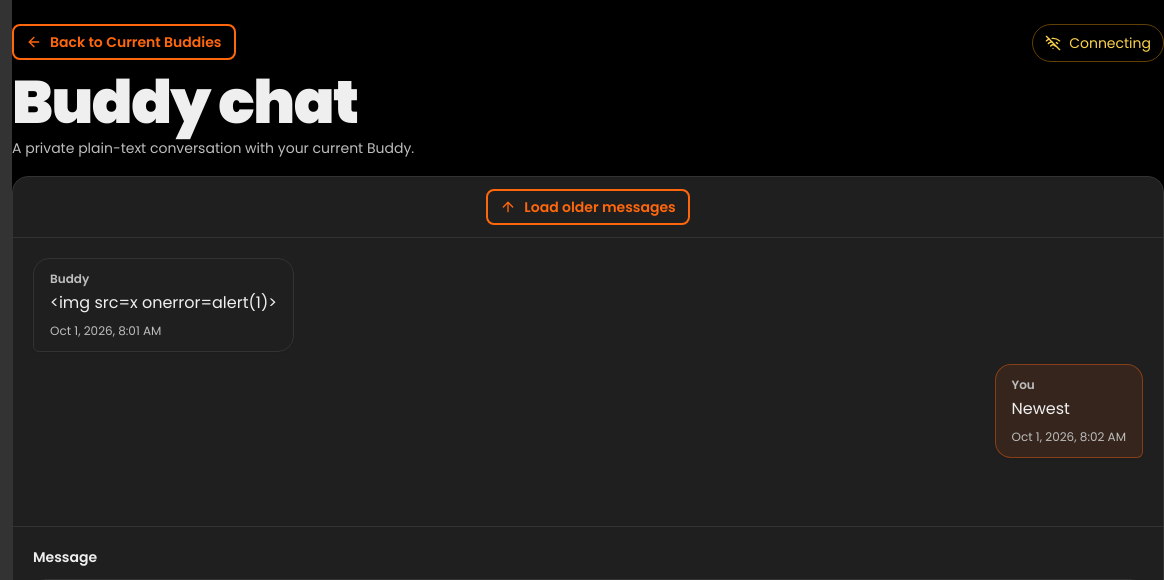
Test: CHAT-004 accessible conversation UI › renders chronological bounded history, safely prepends older messages and acknowledges the latest incoming boundary
Expected: the heading "Buddy chat" is shown, [12,72,414,132]
Expected: the text "<img src=x onerror=alert(1)>" is shown, [50,291,277,315]
Click the button "Load older messages": (588, 207) [486,189,690,225]
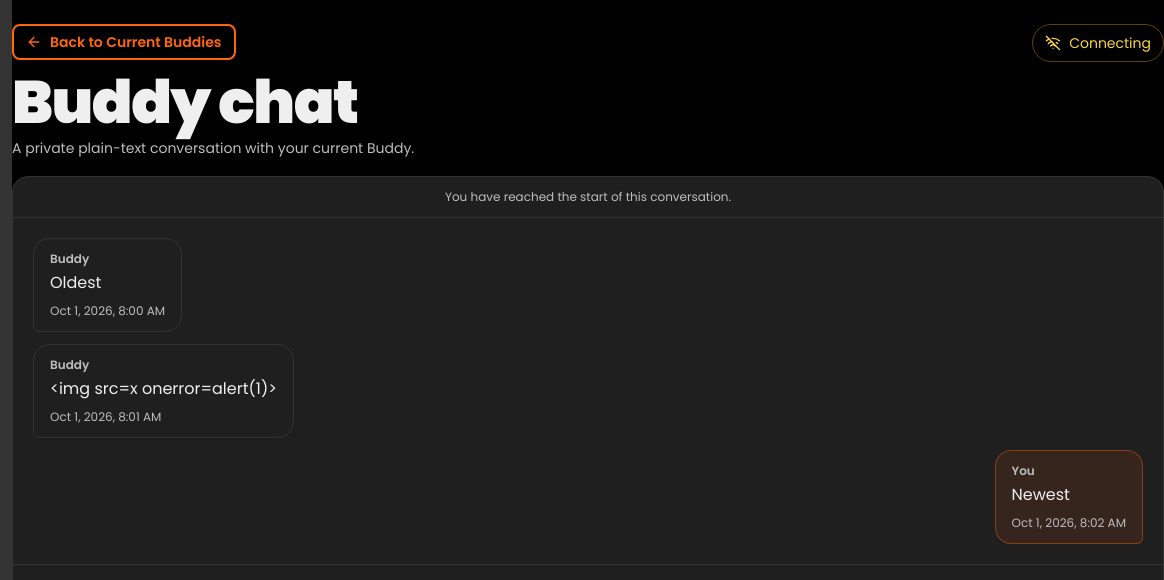
Expected: the text "Oldest" is shown, [50,271,101,294]
